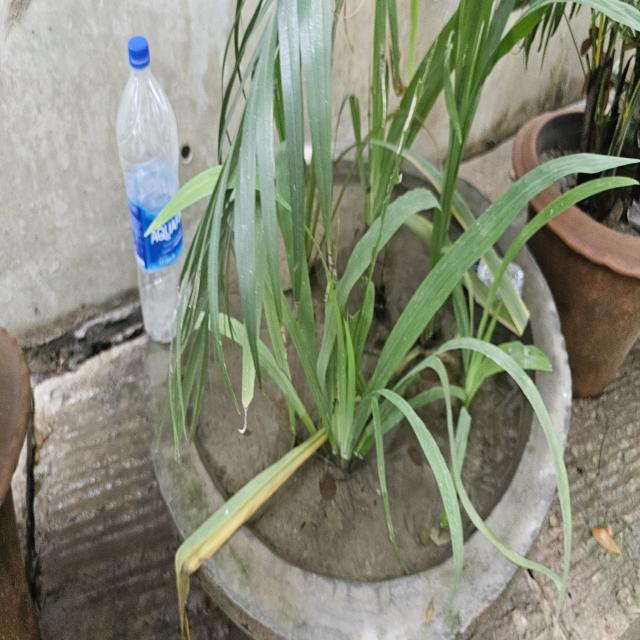artificial_container: (144, 138, 574, 640), (511, 104, 640, 404), (114, 32, 193, 346), (0, 326, 43, 640), (461, 247, 525, 300)
